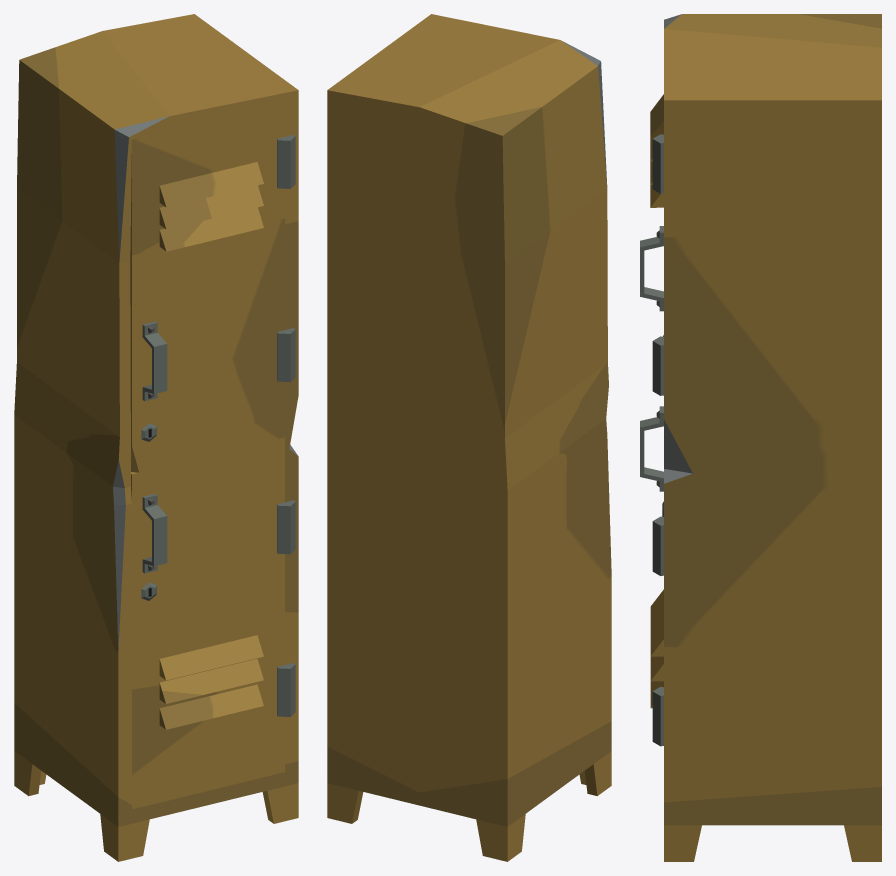
The model's file is SM_Locker_Yellow.gltf.
3 views of the same model, side by side, from view 1: azimuth 30°, elevation 25°; view 2: azimuth 150°, elevation 25°; view 3: azimuth 270°, elevation 25° (orthographic). The views are drawn at different scales.
Visible parts, largest first — view 1: SM_Locker_Yellow, SM_Locker_Door_Up_Yellow, SM_Locker_Door_Bot_Yellow; view 2: SM_Locker_Yellow; view 3: SM_Locker_Yellow, SM_Locker_Door_Bot_Yellow, SM_Locker_Door_Up_Yellow.
Part boxes in pixels (box(x1,y1,x2,y2)): SM_Locker_Yellow: box(14, 14, 298, 861); SM_Locker_Door_Up_Yellow: box(130, 102, 295, 472); SM_Locker_Door_Bot_Yellow: box(131, 437, 295, 809); SM_Locker_Yellow: box(327, 14, 611, 861); SM_Locker_Yellow: box(664, 14, 881, 861); SM_Locker_Door_Bot_Yellow: box(640, 406, 663, 746); SM_Locker_Door_Up_Yellow: box(640, 94, 663, 395).
Size of the model in its own units: 0.5405 by 2.1 by 0.6001.
1 material, 1 textured.
